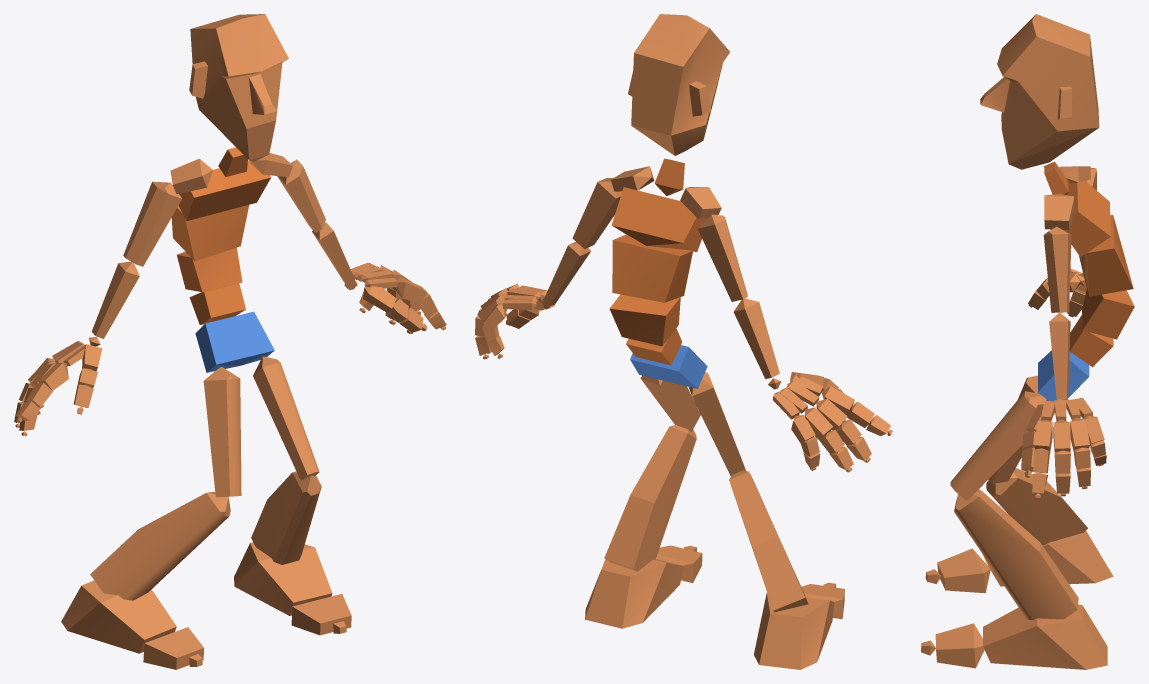
The picture shows the model from 3 angles, left to right: view 1: azimuth 30°, elevation 25°; view 2: azimuth 150°, elevation 25°; view 3: azimuth 270°, elevation 25°; orthographic projection. The views are drawn at different scales.
Parts seen in each view (by area): view 1: BOPED_Head, BOPED_R_leg, BOPED_R_foot, BOPED_R_foot01, BOPED_L_leg, BOPED_R_legup, BOPED_L_legup, Bone01, Bone04, Bone05, BOPED_R_arm_upper, Bone03 (+9 smaller); view 2: BOPED_Head, BOPED_L_leg, BOPED_R_foot01, BOPED_R_foot, BOPED_R_leg, Bone04, Bone05, Bone03, BOPED_R_arm_upper, BOPED_R_legup, BOPED_L_arm_upper, BOPED_R_arm_fore (+9 smaller); view 3: BOPED_Head, BOPED_L_leg, BOPED_R_foot01, BOPED_R_leg, BOPED_L_legup, BOPED_R_foot, Bone05, Bone04, BOPED_L_arm_upper, Bone03, BOPED_R_foot_toe01, BOPED_R_foot_toe04 (+14 smaller).
Boxes of the visible parts, left/top/right/bottom form: BOPED_Head: left=189, top=14, right=288, bottom=161; BOPED_R_leg: left=90, top=491, right=230, bottom=600; BOPED_R_foot: left=61, top=580, right=176, bottom=653; BOPED_R_foot01: left=234, top=542, right=332, bottom=615; BOPED_L_leg: left=251, top=471, right=321, bottom=564; BOPED_R_legup: left=203, top=367, right=241, bottom=497; BOPED_L_legup: left=253, top=356, right=319, bottom=480; Bone01: left=195, top=311, right=274, bottom=372; Bone04: left=171, top=205, right=249, bottom=261; Bone05: left=178, top=160, right=270, bottom=220; BOPED_R_arm_upper: left=123, top=181, right=181, bottom=266; Bone03: left=177, top=247, right=242, bottom=292; BOPED_Head: left=628, top=14, right=729, bottom=155; BOPED_L_leg: left=604, top=425, right=696, bottom=571; BOPED_R_foot01: left=585, top=559, right=683, bottom=628; BOPED_R_foot: left=754, top=593, right=834, bottom=669; BOPED_R_leg: left=729, top=470, right=808, bottom=612; Bone04: left=612, top=234, right=692, bottom=302; Bone05: left=611, top=187, right=707, bottom=251; Bone03: left=609, top=294, right=680, bottom=346; BOPED_R_arm_upper: left=698, top=214, right=747, bottom=301; BOPED_R_legup: left=688, top=372, right=745, bottom=476; BOPED_L_arm_upper: left=572, top=178, right=622, bottom=249; BOPED_R_arm_fore: left=733, top=298, right=779, bottom=378; BOPED_Head: left=980, top=14, right=1099, bottom=169; BOPED_L_leg: left=954, top=489, right=1078, bottom=619; BOPED_R_foot01: left=983, top=604, right=1107, bottom=669; BOPED_R_leg: left=986, top=468, right=1087, bottom=545; BOPED_L_legup: left=950, top=391, right=1046, bottom=500; BOPED_R_foot: left=983, top=531, right=1113, bottom=586; Bone05: left=1063, top=181, right=1110, bottom=257; Bone04: left=1084, top=215, right=1133, bottom=296; BOPED_L_arm_upper: left=1043, top=226, right=1071, bottom=312; Bone03: left=1082, top=288, right=1134, bottom=339; BOPED_R_foot_toe01: left=937, top=548, right=990, bottom=593; BOPED_R_foot_toe04: left=935, top=623, right=984, bottom=668.
Size of the model in its own units: 133 by 178 by 56.5.
